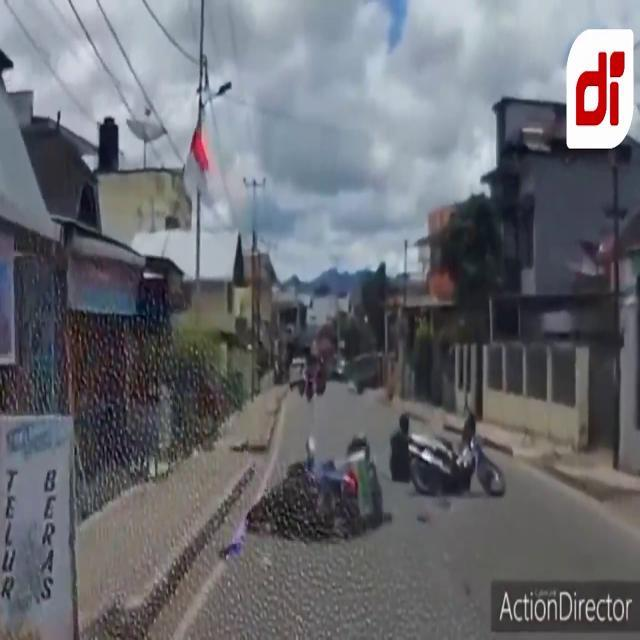multiple_accident: (225, 385, 527, 550)
